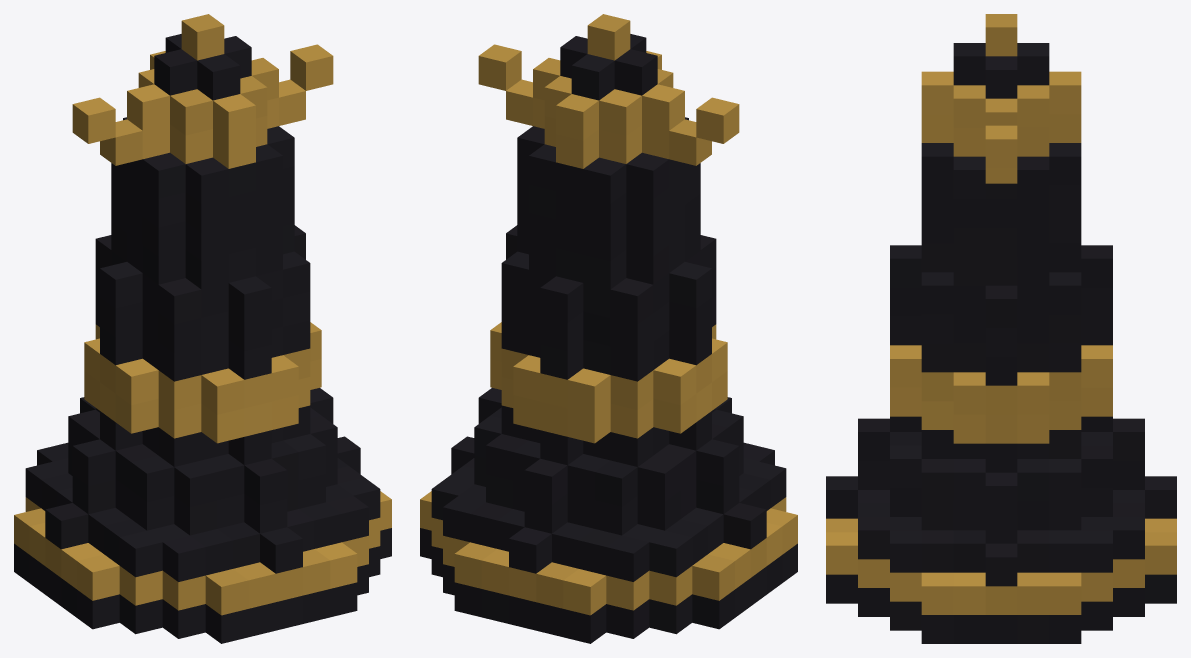
File: black_queen.glb
3 renders of one model, left to right at view 1: azimuth 30°, elevation 25°; view 2: azimuth 150°, elevation 25°; view 3: azimuth 270°, elevation 25°, orthographic.
Size of the model in its own units: 1.1 by 1.9 by 1.1.
